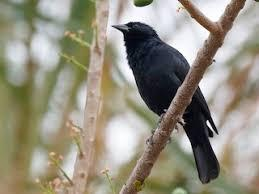grauna: (109, 19, 231, 185)
